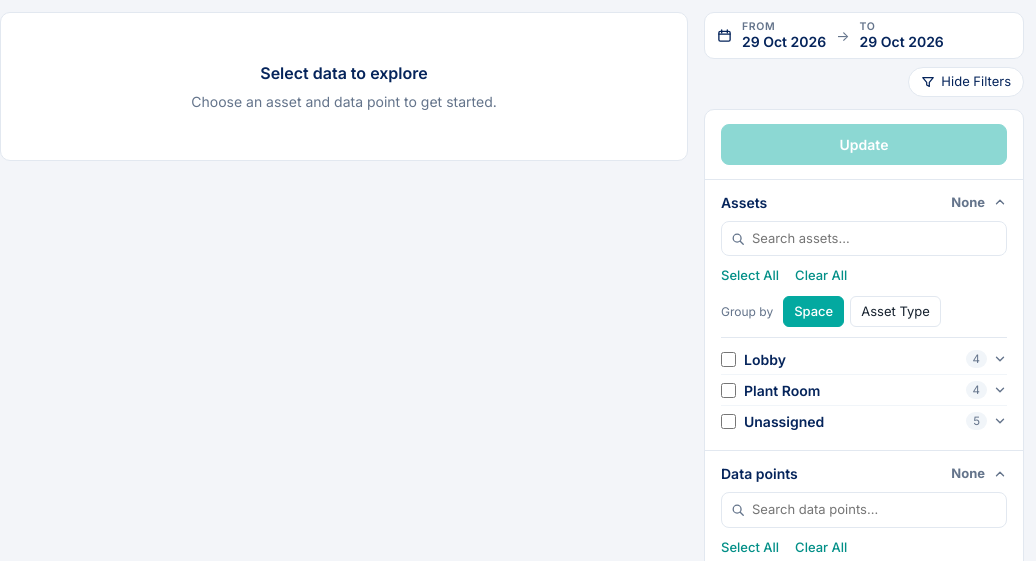
it: Analytics filter panel (F4) › Assets: a group opens on click; the row shows the choice; selections survive regrouping
Click the button "Plant Room 4" at (782, 390), box [744,376,1007,405]
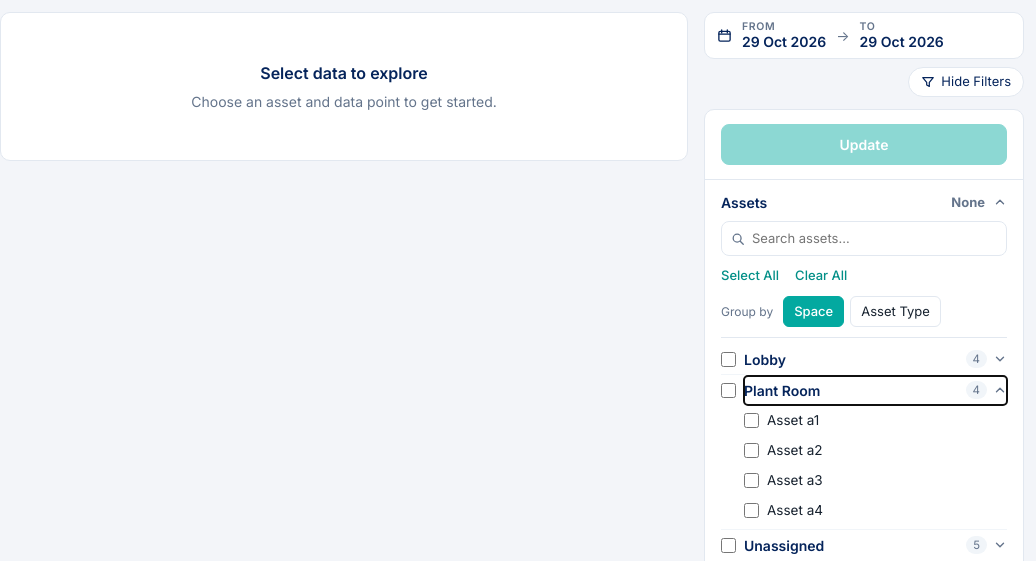
Click the checkbox labelled "Asset a2" at (752, 450), box [744,443,759,458]
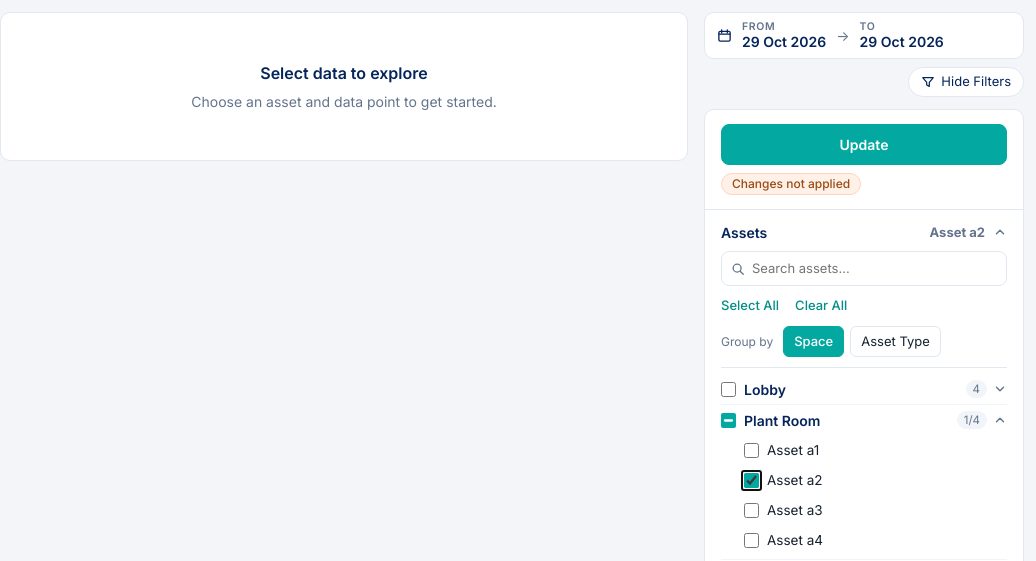
Expected: the text with test id "asset-selected-count" reads "Asset a2", [930,224,985,240]
Click the checkbox labelled "Asset a3" at (752, 510), box [744,503,759,518]
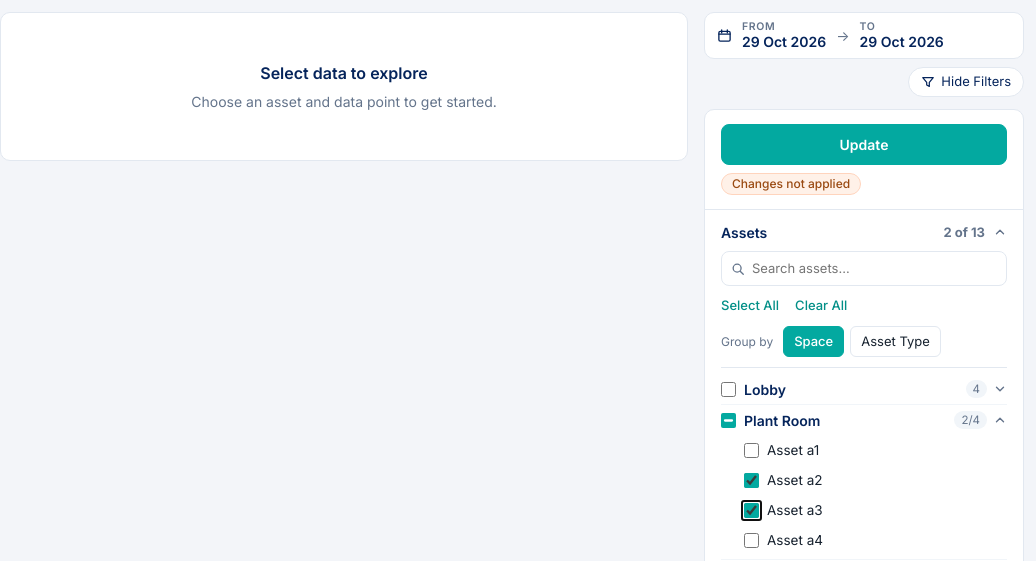
Expected: the text with test id "asset-selected-count" reads "2 of 13", [944,224,985,240]
Click the radio button with aria-label "Group by Asset Type" at (896, 342), box [850,326,941,357]
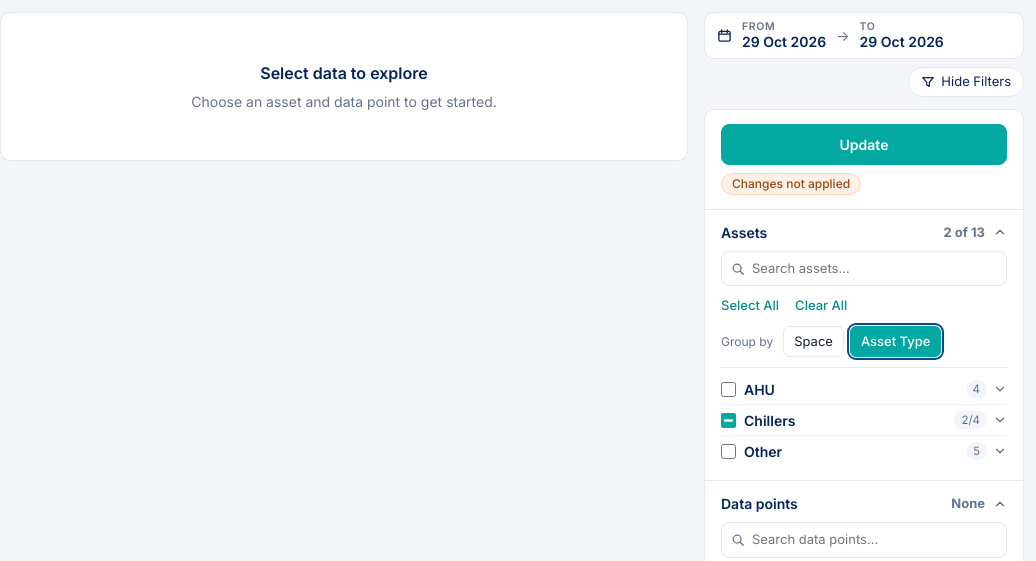
Click the button "Chillers 2/4" at (770, 420), box [744,406,1007,435]
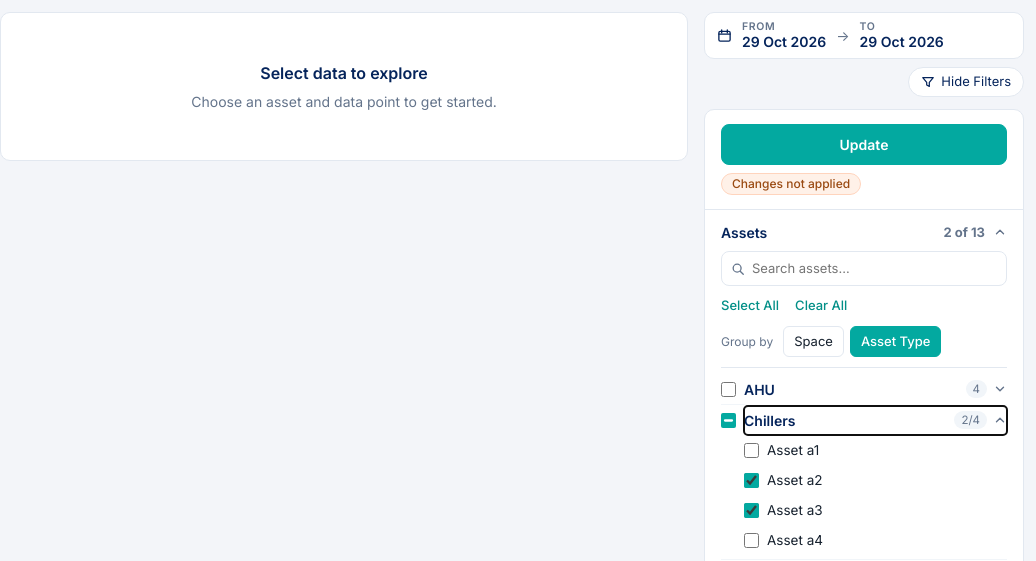
Expected: the checkbox labelled "Asset a2" is checked, [744,473,759,488]
